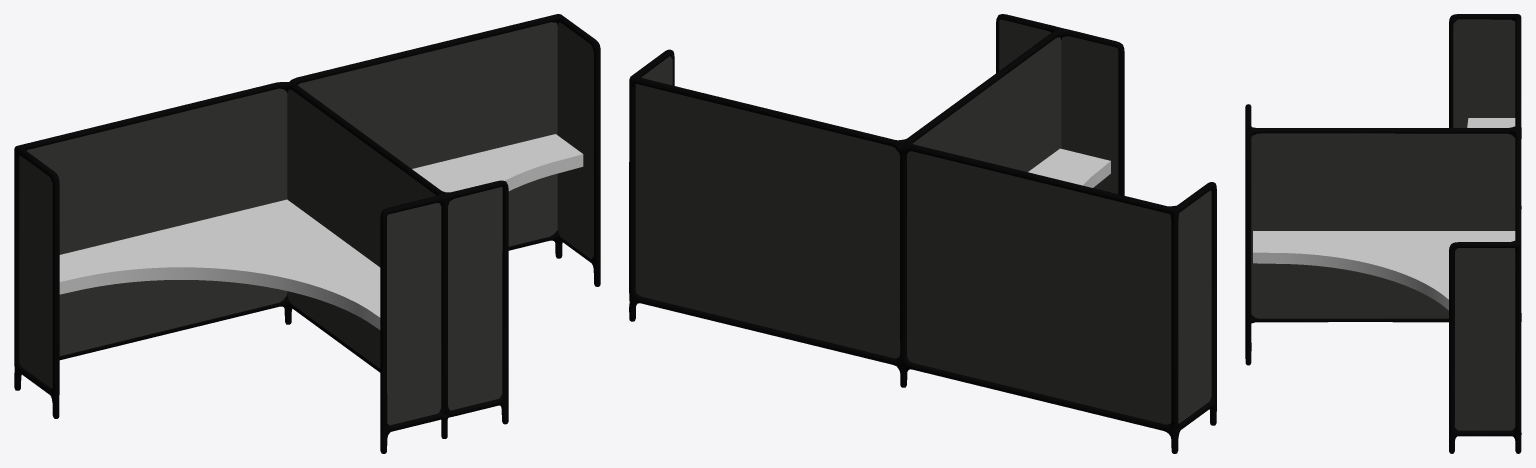
File: DoubleCubicle.glb
3 renders of one model, left to right at view 1: azimuth 30°, elevation 25°; view 2: azimuth 150°, elevation 25°; view 3: azimuth 270°, elevation 25°, orthographic. The views are drawn at different scales.
Visible parts, largest first — view 1: Cubicle Wall.002, CubicleDesk.002, Cubiclemetal.002; view 2: Cubicle Wall.002, Cubiclemetal.002, CubicleDesk.002; view 3: Cubicle Wall.002, Cubiclemetal.002, CubicleDesk.002.
Boxes of the visible parts, bbox=[...] form: Cubicle Wall.002: bbox=[19, 22, 593, 425]; CubicleDesk.002: bbox=[59, 134, 583, 329]; Cubiclemetal.002: bbox=[14, 14, 600, 453]; Cubicle Wall.002: bbox=[635, 19, 1211, 424]; Cubiclemetal.002: bbox=[629, 14, 1216, 453]; CubicleDesk.002: bbox=[1028, 148, 1110, 187]; Cubicle Wall.002: bbox=[1251, 19, 1515, 430]; Cubiclemetal.002: bbox=[1245, 14, 1521, 453]; CubicleDesk.002: bbox=[1253, 118, 1515, 310].
Bounding box in the file's own units: 3.96 × 1.69 × 2.
2 materials, 2 textured.
